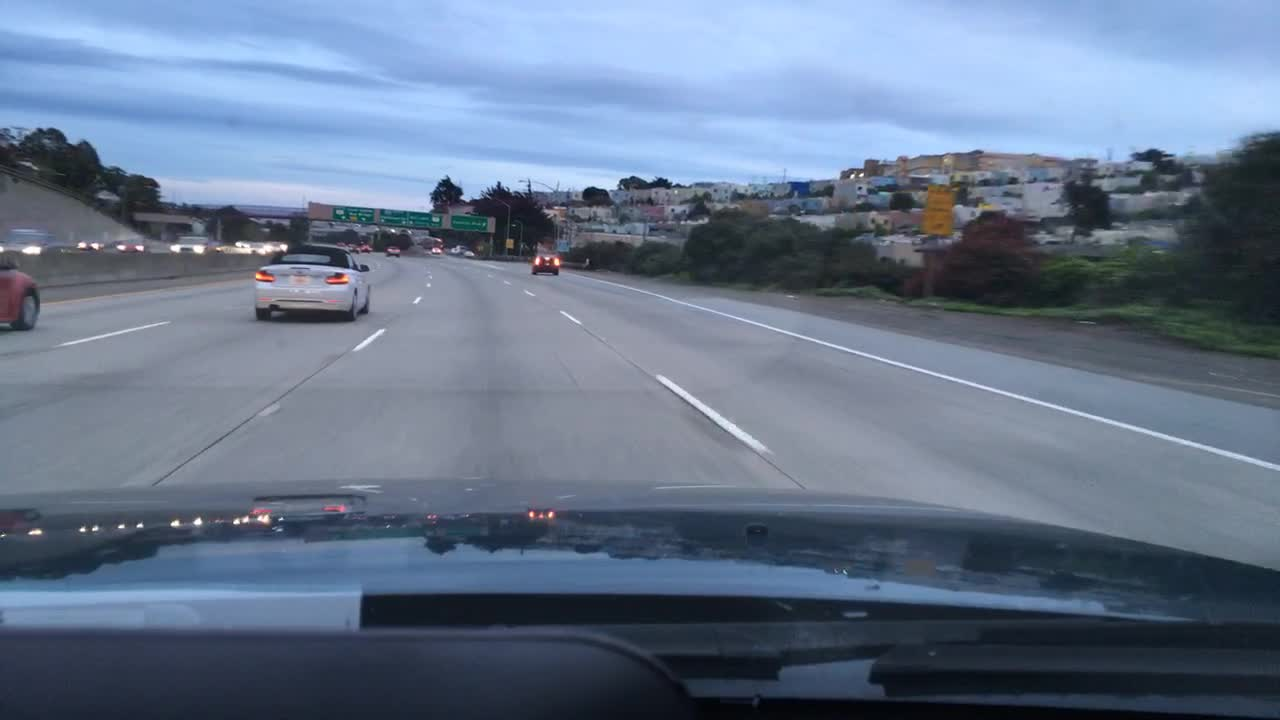car: (253, 242, 371, 321), (0, 248, 43, 331), (0, 229, 69, 254), (169, 233, 219, 258), (531, 249, 559, 275), (112, 236, 145, 258), (72, 237, 103, 251), (262, 236, 288, 251), (446, 243, 467, 255), (460, 248, 475, 263), (345, 241, 360, 255), (359, 242, 375, 255), (385, 245, 400, 258), (427, 245, 442, 258)
traffic sign: (917, 185, 954, 236), (377, 206, 443, 228), (451, 212, 489, 231), (331, 205, 372, 221)
